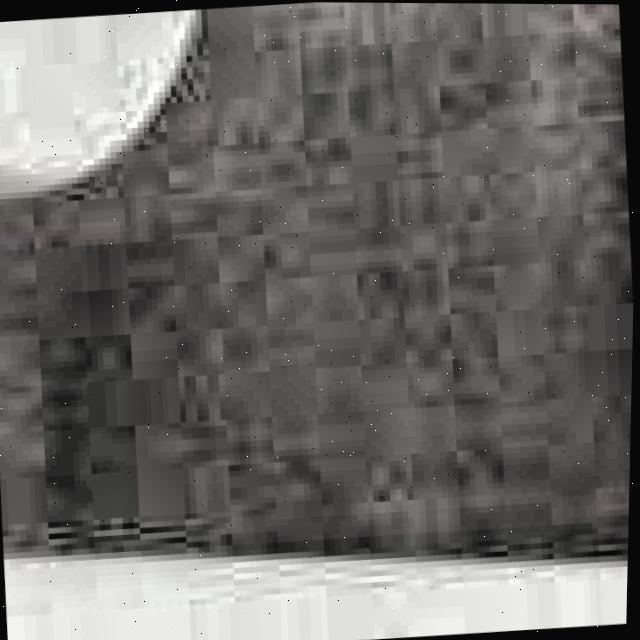paper: (0, 2, 635, 558)
